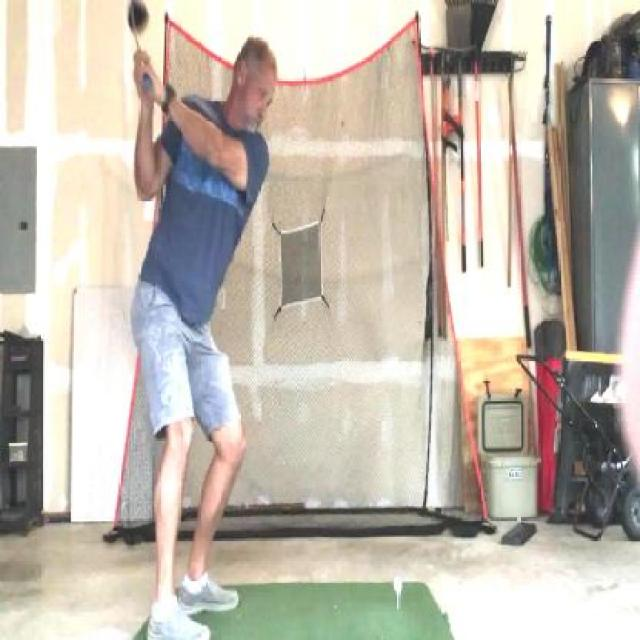club head: (127, 0, 150, 37)
